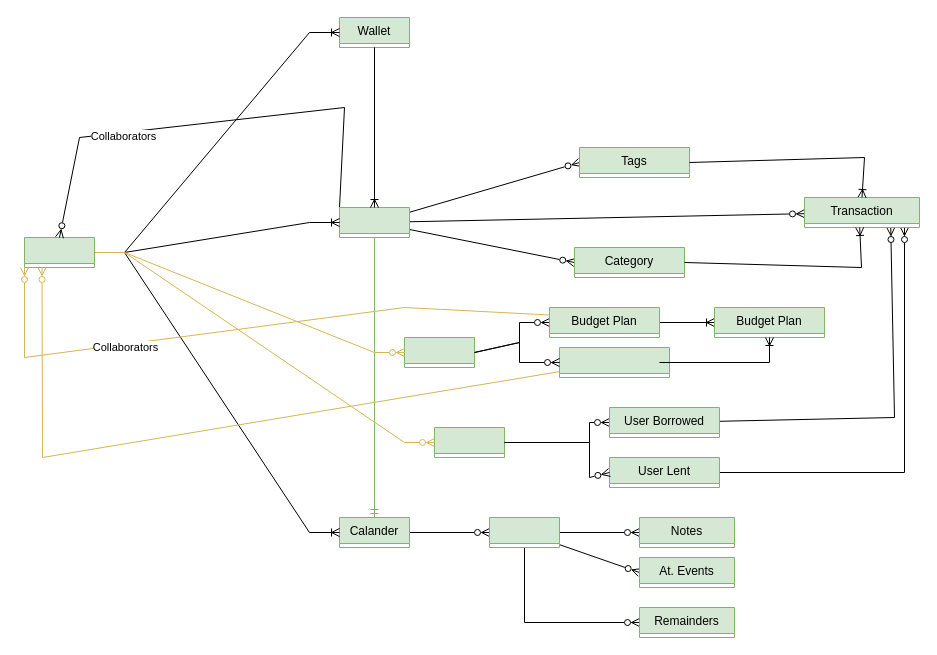
This 937x655 diagram has some shape labels left out. Here are the shapes that lost their labels. From the top down, the box of each, then its label:
(338, 206, 410, 238): Diaries
(24, 236, 94, 268): Profile
(404, 336, 474, 368): Budgets
(558, 346, 670, 378): Purchase List
(434, 426, 504, 458): Debts
(488, 516, 560, 548): SIngle Day
